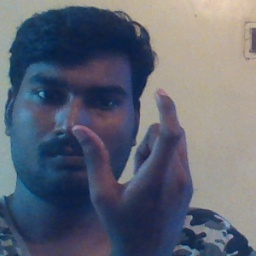U: (73, 82, 195, 240)
